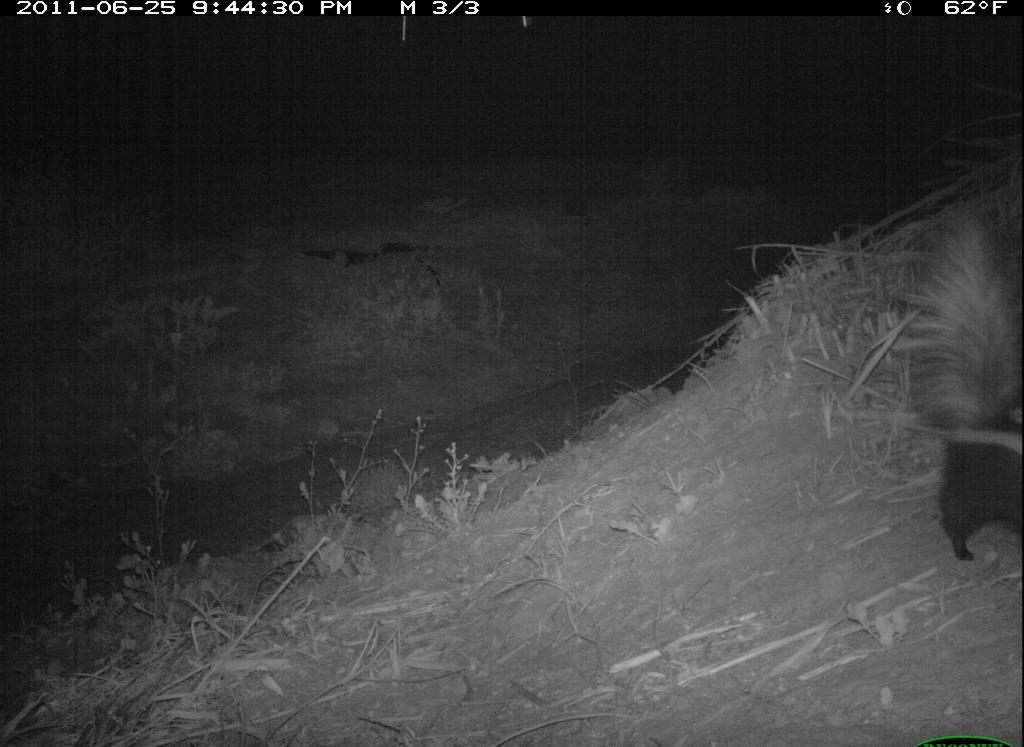skunk: (894, 193, 1023, 571)
